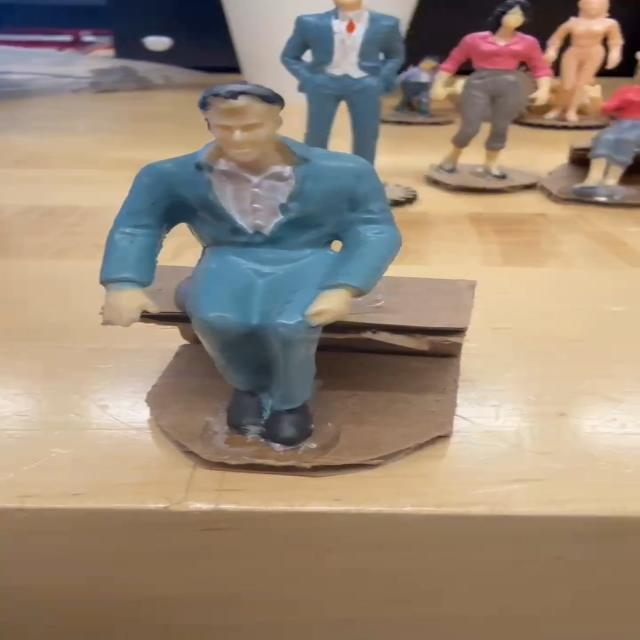Authorized: (78, 81, 404, 474)
